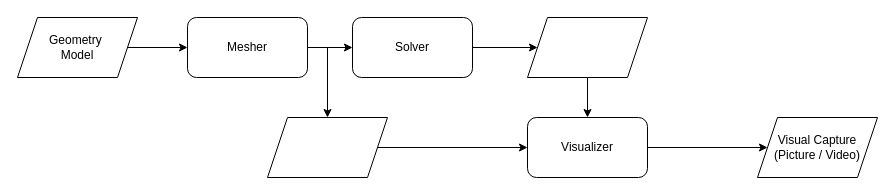
This 895x195 diagram has some shape labels left out. The shapes that lost their labels are listed below. From the top down, each one's centre as x and y in pixels, then its label:
(587,47): Simulation Result
(327,147): Mesh
